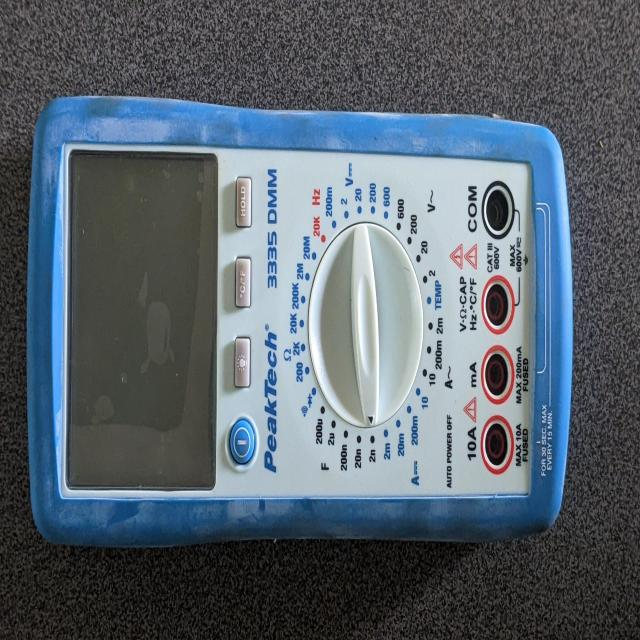Digital Multimeter: (11, 80, 581, 569)
